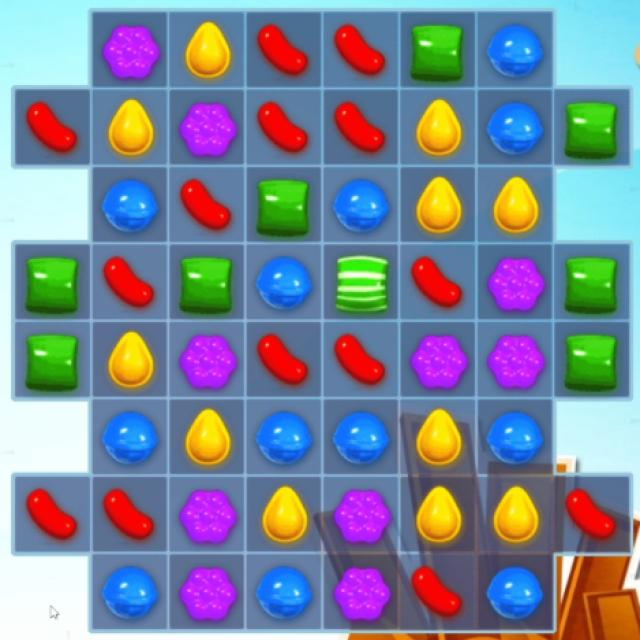blue: (90, 552, 172, 633), (91, 396, 170, 480), (245, 396, 322, 477), (322, 165, 400, 244), (90, 166, 167, 244), (245, 552, 322, 630), (478, 86, 554, 164), (322, 398, 400, 474), (476, 553, 553, 629), (476, 398, 551, 476), (248, 243, 323, 320), (475, 13, 553, 87)
green: (550, 242, 630, 324), (14, 244, 94, 324), (167, 242, 246, 322), (246, 165, 324, 246), (551, 323, 632, 400), (554, 88, 630, 166), (322, 246, 400, 322), (14, 322, 90, 400), (400, 13, 477, 86)
purple: (170, 551, 247, 633), (476, 321, 554, 398), (322, 474, 398, 553), (91, 12, 168, 89), (170, 322, 247, 398), (323, 552, 397, 630), (402, 322, 478, 397), (170, 477, 246, 552), (170, 89, 244, 165), (479, 243, 550, 320)
red: (401, 241, 479, 323), (322, 87, 402, 166), (244, 90, 324, 168), (322, 320, 402, 398), (400, 553, 478, 632), (15, 87, 92, 167), (168, 165, 248, 242), (13, 476, 91, 554), (91, 245, 171, 321), (90, 476, 170, 552), (554, 476, 630, 556), (324, 12, 402, 88), (248, 322, 322, 401), (245, 14, 322, 89)
yellow: (474, 474, 554, 554), (475, 165, 554, 244), (91, 88, 169, 167), (401, 88, 478, 166), (400, 164, 477, 242), (170, 12, 246, 91), (244, 476, 322, 552), (398, 474, 474, 552), (94, 321, 171, 397), (168, 398, 245, 474), (402, 398, 476, 477)
